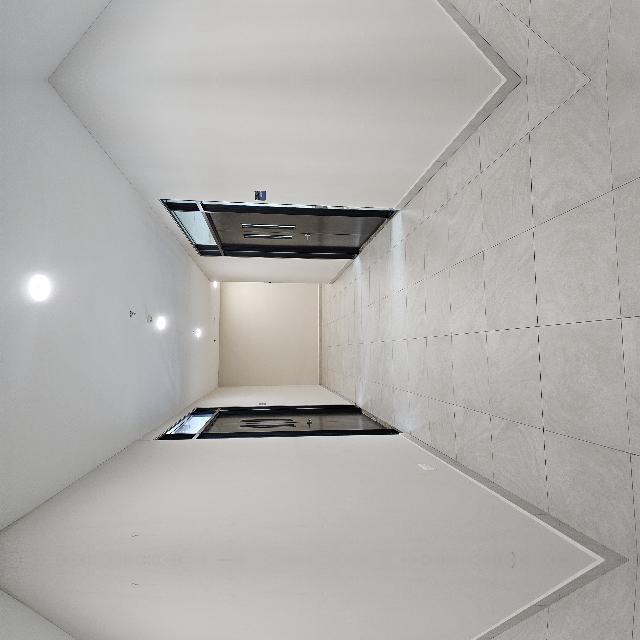door: (305, 282, 353, 472), (120, 278, 166, 470)
